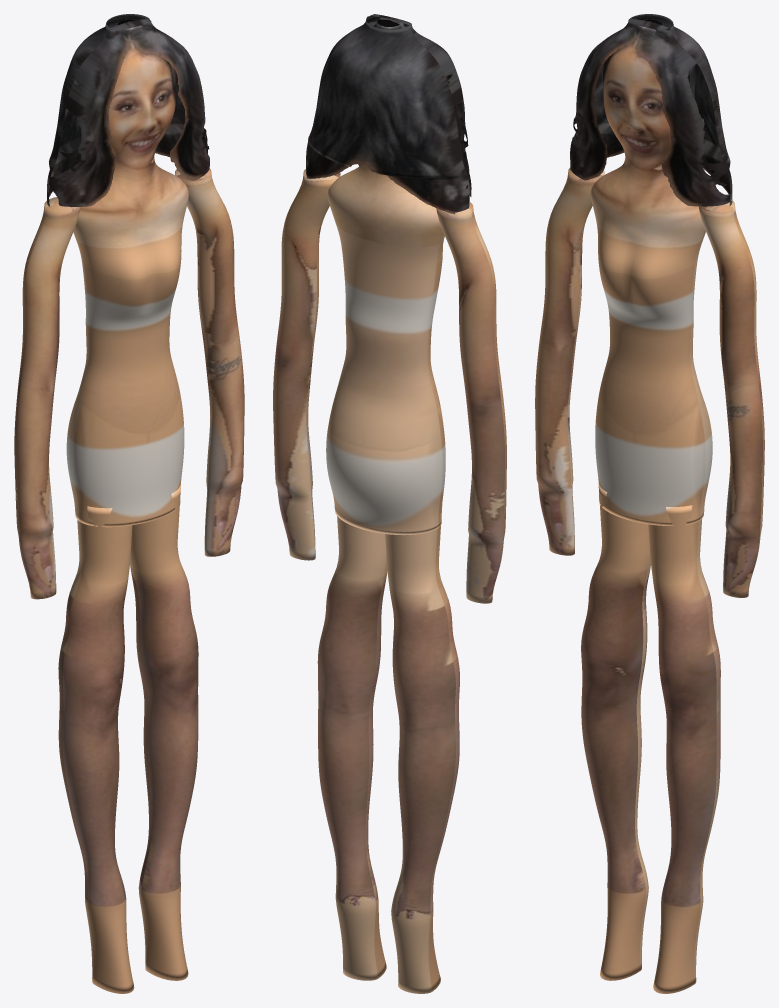
File: avatar_character.glb
The picture shows the model from 3 angles, left to right: view 1: azimuth 30°, elevation 25°; view 2: azimuth 150°, elevation 25°; view 3: azimuth 330°, elevation 25°; orthographic projection.
Visible parts, largest first — view 1: AvatarBody, AvatarHair; view 2: AvatarBody, AvatarHair; view 3: AvatarBody, AvatarHair.
Boxes of the visible parts, x1,y1,x2,y2 form: AvatarBody: (14, 19, 244, 993); AvatarHair: (47, 14, 209, 206); AvatarBody: (273, 17, 506, 993); AvatarHair: (306, 14, 471, 214); AvatarBody: (535, 19, 764, 993); AvatarHair: (570, 14, 732, 206).
Bounding box in the file's own units: 0.3905 × 1.57 × 0.1657.
2 materials, 2 textured.
